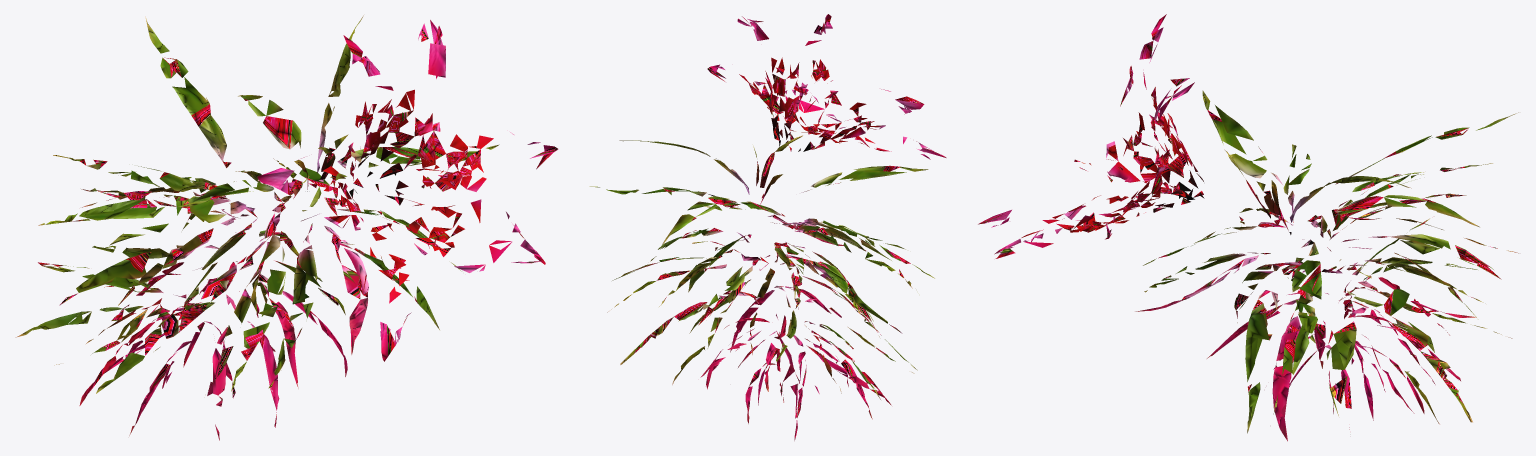
Rendered from red-lily.glb.
3 renders of one model, left to right at view 1: azimuth 30°, elevation 25°; view 2: azimuth 150°, elevation 25°; view 3: azimuth 270°, elevation 25°, orthographic. The views are drawn at different scales.
Parts seen in each view (by area): view 1: Mesh_0; view 2: Mesh_0; view 3: Mesh_0.
Boxes of the visible parts, x1=… form: Mesh_0: x1=15, y1=15, x2=558, y2=440; Mesh_0: x1=589, y1=14, x2=946, y2=440; Mesh_0: x1=978, y1=14, x2=1518, y2=441.
Bounding box in the file's own units: 0.6363 × 0.6 × 0.7049.
1 material, 1 textured.
